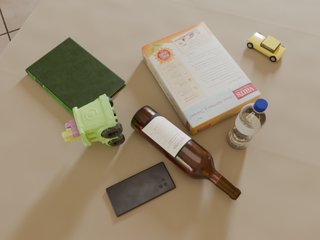book: (26, 37, 126, 116)
bottle: (131, 106, 241, 200), (227, 99, 268, 149)
box: (142, 22, 261, 135)
phone: (106, 162, 176, 217)
toy_car: (62, 94, 125, 146), (247, 32, 286, 62)
